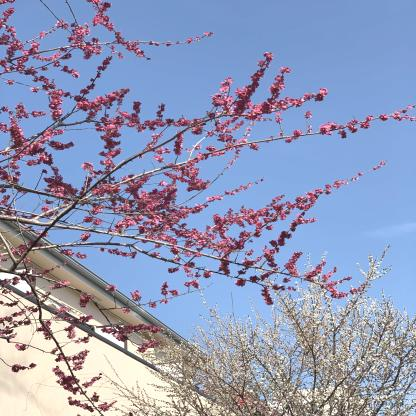Ume: (0, 0, 416, 410), (84, 240, 416, 416)
